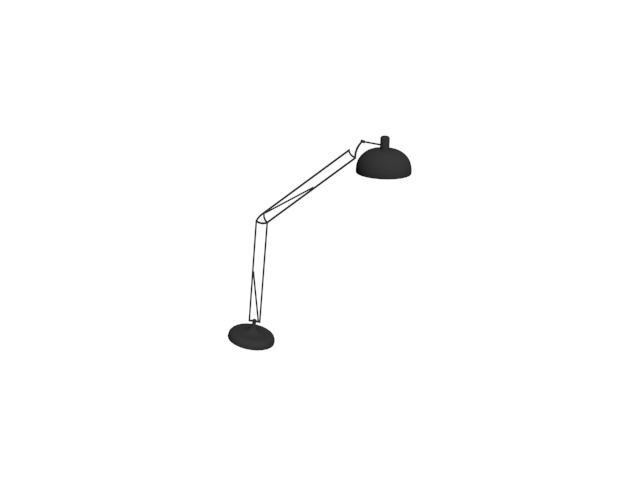desk_lamp: (225, 129, 416, 352)
